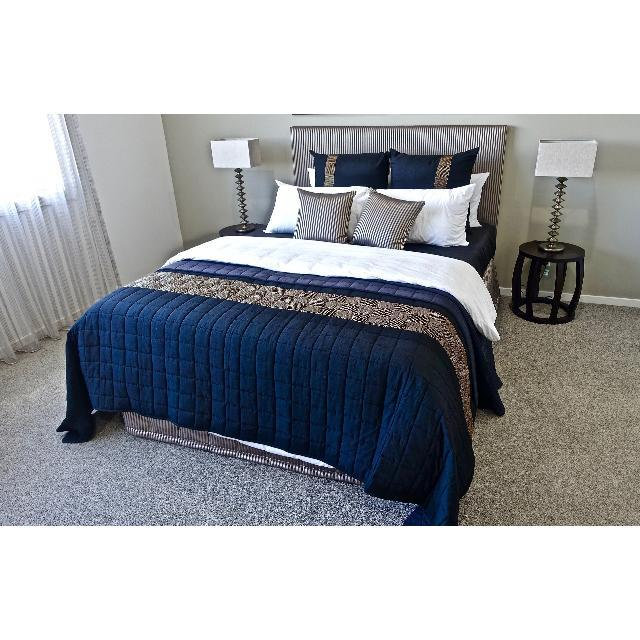bed: (76, 123, 508, 497)
lamp: (534, 137, 596, 251), (212, 137, 261, 232)
pillow: (388, 188, 475, 246), (348, 189, 427, 249), (390, 145, 482, 189), (294, 189, 357, 239), (312, 150, 389, 185), (264, 181, 293, 235)
